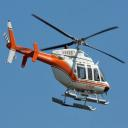helicopter: (4, 15, 126, 112)
